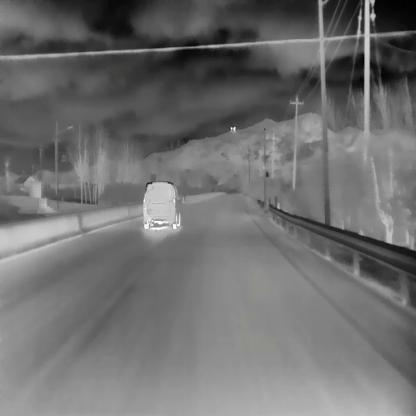car: (142, 178, 180, 228)
